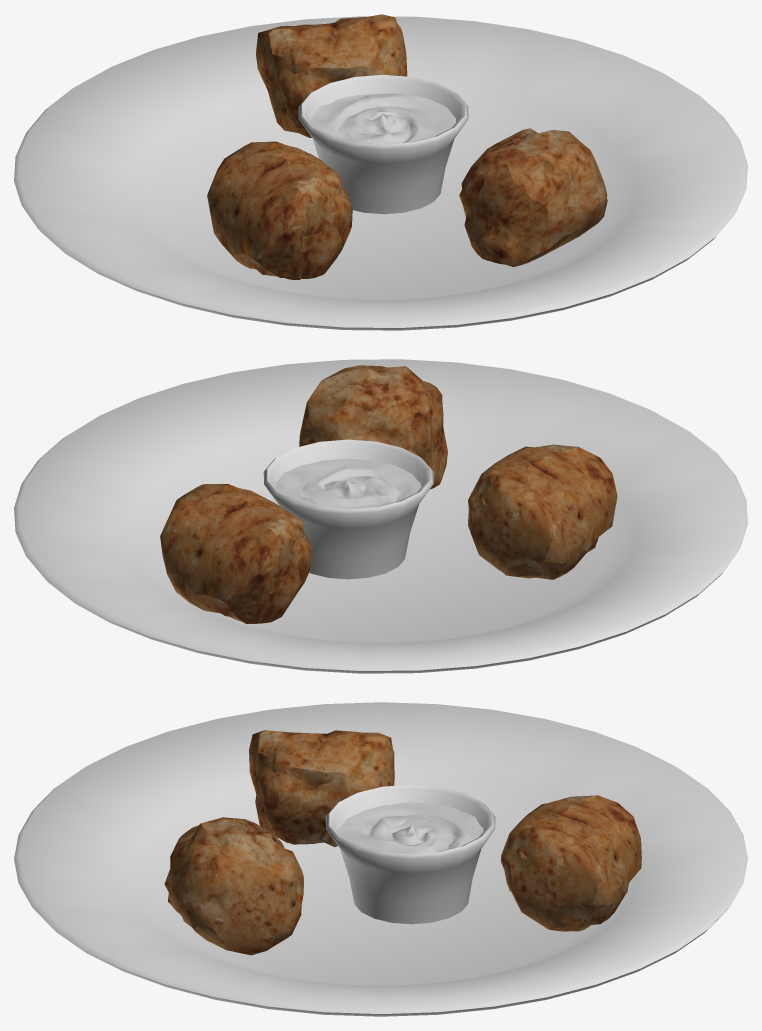
Rendered from Falafel.fbx.
3 views of the same model, one above another, from view 1: azimuth 30°, elevation 25°; view 2: azimuth 150°, elevation 25°; view 3: azimuth 270°, elevation 25° (orthographic).
Parts seen in each view (by area): view 1: Falafel_LOD0; view 2: Falafel_LOD0; view 3: Falafel_LOD0.
Part boxes in pixels (box(x1,y1,x2,y2)): Falafel_LOD0: box(14, 14, 747, 330); Falafel_LOD0: box(14, 359, 747, 673); Falafel_LOD0: box(14, 702, 747, 1016).
Size of what is drawn, in the model's own units: 27.95 by 5.39 by 27.95.
